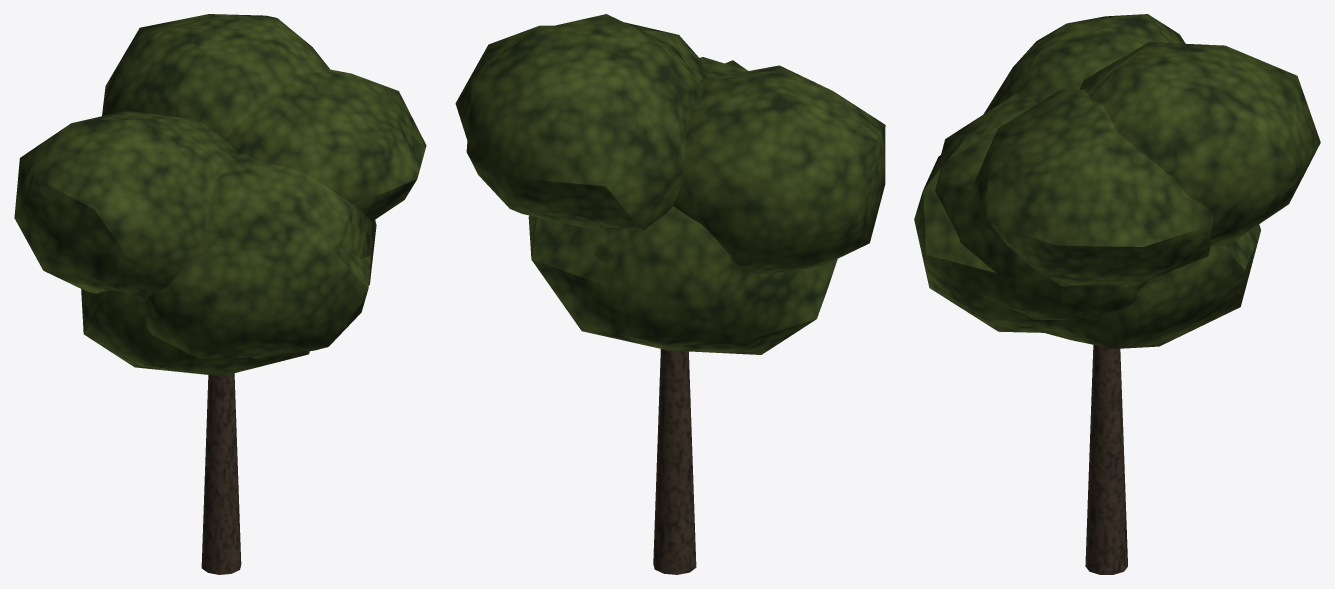
File: SM_Tree_Oak_A_LOD1.glb
The picture shows the model from 3 angles, left to right: view 1: azimuth 30°, elevation 25°; view 2: azimuth 150°, elevation 25°; view 3: azimuth 270°, elevation 25°; orthographic projection. The views are drawn at different scales.
Parts seen in each view (by area): view 1: SM_Tree_Oak_A_LOD1; view 2: SM_Tree_Oak_A_LOD1; view 3: SM_Tree_Oak_A_LOD1.
Boxes of the visible parts, left/top/right/bottom form: SM_Tree_Oak_A_LOD1: left=14, top=14, right=426, bottom=574; SM_Tree_Oak_A_LOD1: left=455, top=14, right=885, bottom=574; SM_Tree_Oak_A_LOD1: left=914, top=14, right=1320, bottom=574.
Size of the model in its own units: 8.79 by 11.31 by 7.9.
1 material, 1 textured.
